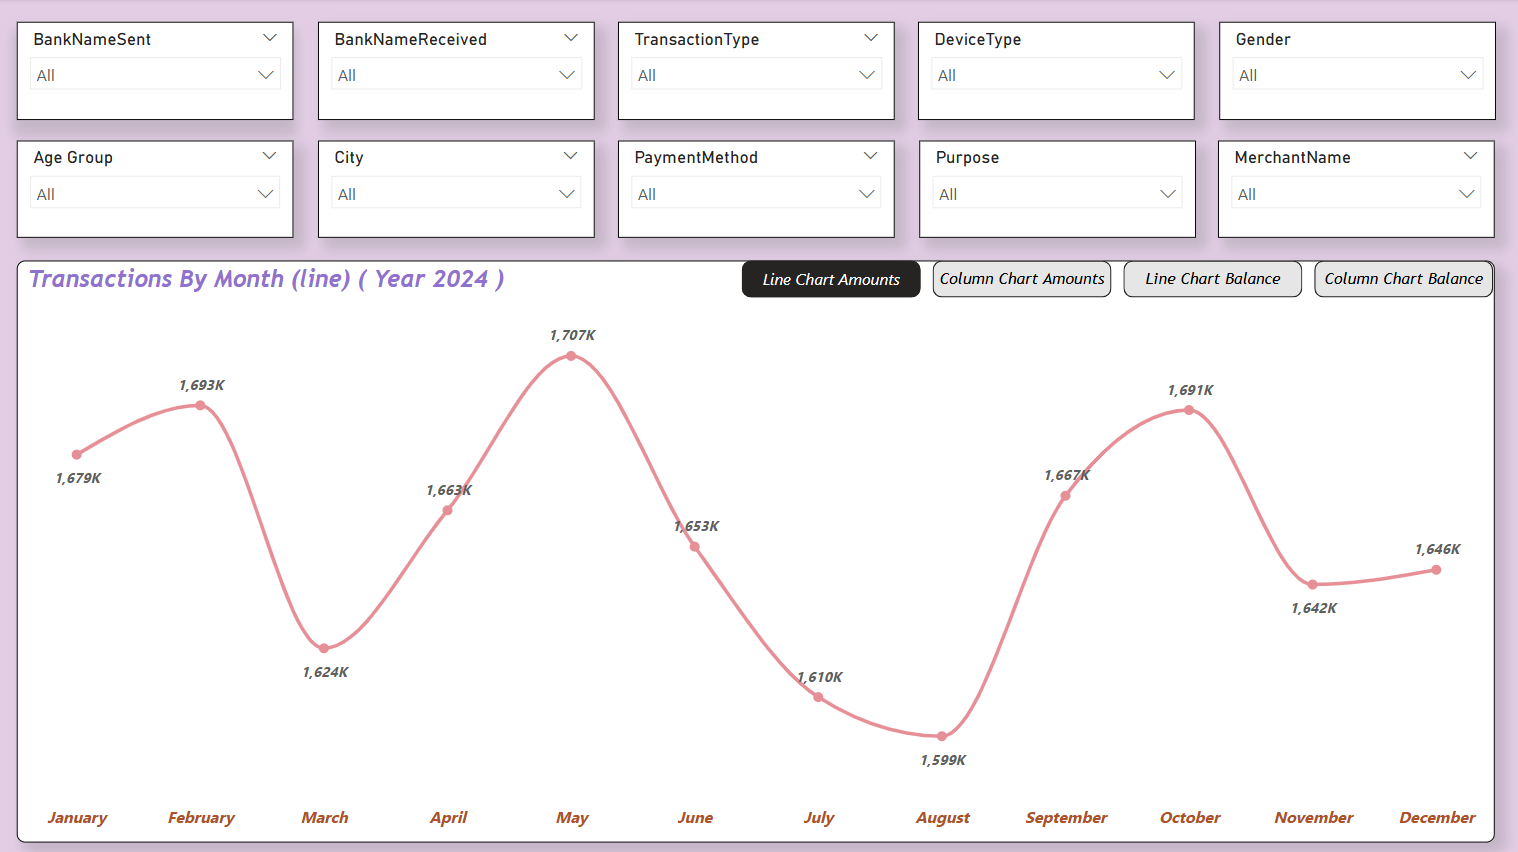

The page's visual inventory and layout, read from the dashboard file:
{"tool":"powerbi","page":{"name":"Page 1","canvas":[1280,720],"ordinal":0},"visuals":[{"type":"slicer","fields":{"Values":["UPI_Transaction.BankNameSent"]},"box":[20,20,232,82],"z":0},{"type":"slicer","fields":{"Values":["UPI_Transaction.BankNameReceived"]},"box":[272,20,232,82],"z":1000},{"type":"slicer","fields":{"Values":["UPI_Transaction.TransactionType"]},"box":[524,20,232,82],"z":2000},{"type":"slicer","fields":{"Values":["UPI_Transaction.DeviceType"]},"box":[776,20,232,82],"z":3000},{"type":"slicer","fields":{"Values":["UPI_Transaction.Gender"]},"box":[1028,20,232,82],"z":4000},{"type":"slicer","fields":{"Values":["UPI_Transaction.Age Group"]},"box":[20.3,119.8,231.7,81.4],"z":5000},{"type":"slicer","fields":{"Values":["UPI_Transaction.City"]},"box":[272.4,119.8,231.7,81.4],"z":6000},{"type":"slicer","fields":{"Values":["UPI_Transaction.PaymentMethod"]},"box":[524.5,119.8,231.7,81.4],"z":7000},{"type":"slicer","fields":{"Values":["UPI_Transaction.Purpose"]},"box":[776.5,119.8,231.7,81.4],"z":8000},{"type":"slicer","fields":{"Values":["UPI_Transaction.MerchantName"]},"box":[1027.4,119.8,231.7,81.4],"z":9000},{"type":"lineChart","title":"Transactions By Month (line) ( Year 2024 )","fields":{"Y":["Sum(UPI_Transaction.Amount)"],"Category":["UPI_Transaction.TransactionDate.Variation.Date Hierarchy.Month"]},"box":[20.3,220.4,1238.8,488.3],"z":10000},{"type":"bookmarkNavigator","box":[627.3,220.4,631.8,31.6],"z":14000}]}

Visuals, with their boxes in screenshot pixels (x1, y1, x2, y2), scaled from the page's 1280x720 canvas onto the 1518x852 screenshot:
slicer - UPI_Transaction.BankNameSent: x1=24, y1=24, x2=299, y2=121
slicer - UPI_Transaction.BankNameReceived: x1=323, y1=24, x2=598, y2=121
slicer - UPI_Transaction.TransactionType: x1=621, y1=24, x2=897, y2=121
slicer - UPI_Transaction.DeviceType: x1=920, y1=24, x2=1195, y2=121
slicer - UPI_Transaction.Gender: x1=1219, y1=24, x2=1494, y2=121
slicer - UPI_Transaction.Age Group: x1=24, y1=142, x2=299, y2=238
slicer - UPI_Transaction.City: x1=323, y1=142, x2=598, y2=238
slicer - UPI_Transaction.PaymentMethod: x1=622, y1=142, x2=897, y2=238
slicer - UPI_Transaction.Purpose: x1=921, y1=142, x2=1196, y2=238
slicer - UPI_Transaction.MerchantName: x1=1218, y1=142, x2=1493, y2=238
"Transactions By Month (line) ( Year 2024 )" lineChart: x1=24, y1=261, x2=1493, y2=839
bookmarkNavigator: x1=744, y1=261, x2=1493, y2=298
